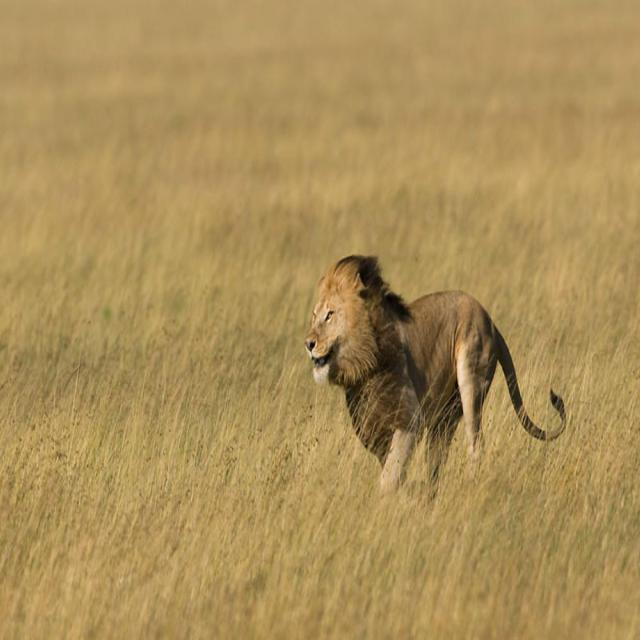Lion: (307, 253, 547, 495)
